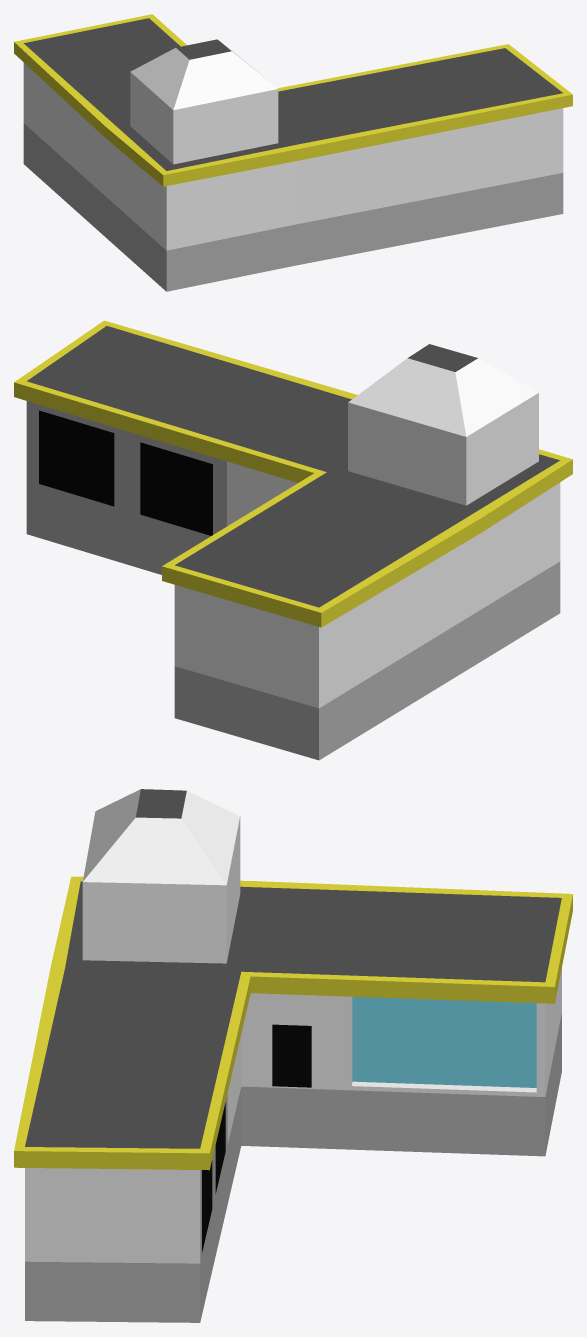
Rendered from Gas_Station.fbx.
3 views of the same model, one above another, from view 1: azimuth 30°, elevation 25°; view 2: azimuth 150°, elevation 25°; view 3: azimuth 270°, elevation 25° (orthographic). The views are drawn at different scales.
Parts seen in each view (by area): view 1: Building_05; view 2: Building_05; view 3: Building_05.
Part boxes in pixels (x1,y1,x2,y2): Building_05: (14, 14, 572, 291); Building_05: (14, 320, 572, 760); Building_05: (14, 789, 572, 1322).
Size of the model in its own units: 5233 by 2619 by 4465.
